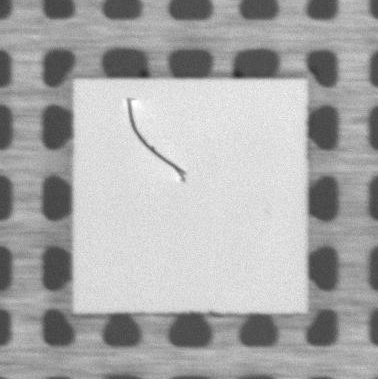DIE_INK: (118, 95, 189, 185)
